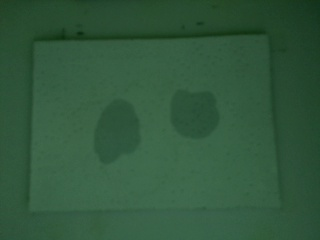Water_detected: (100, 103, 142, 164), (177, 87, 224, 141)
